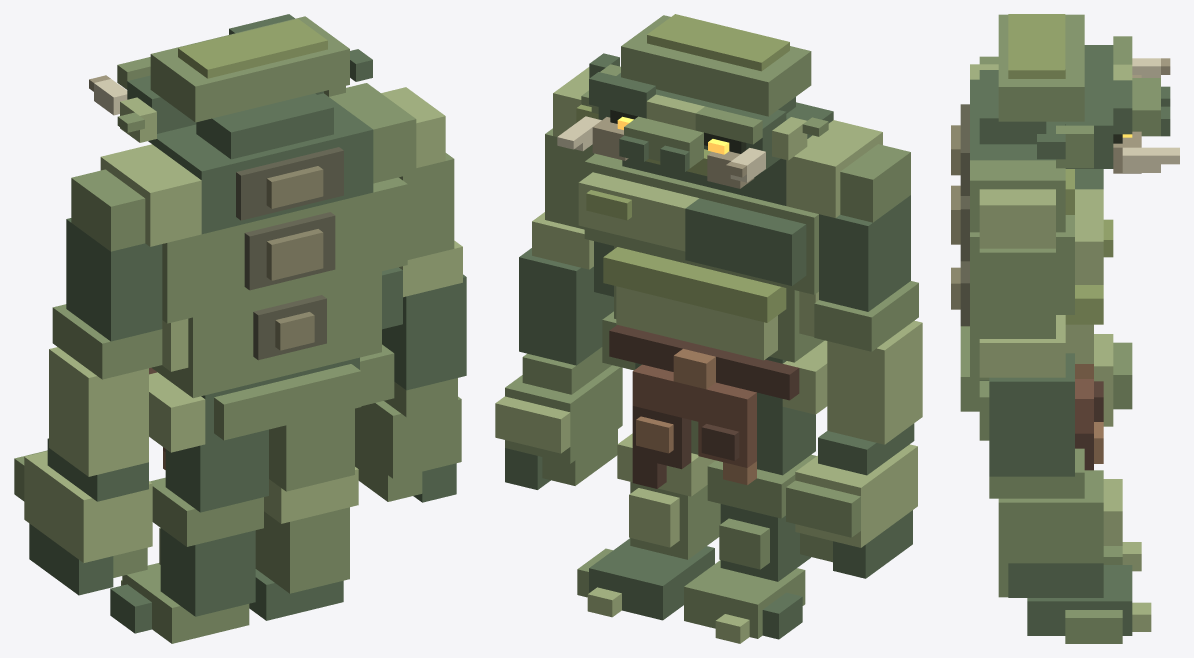
Rendered from voxel_troll_64x.glb.
The picture shows the model from 3 angles, left to right: view 1: azimuth 30°, elevation 25°; view 2: azimuth 150°, elevation 25°; view 3: azimuth 270°, elevation 25°; orthographic projection. The views are drawn at different scales.
Visible parts, largest first — view 1: chest_core, abdomen_core, forearm_right, head_cranium, upper_back_core, upper_arm_right, palm_right, forearm_left, pelvis_back, lower_leg_right, palm_left, lower_leg_left (+38 smaller); view 2: forearm_right, head_cranium, upper_arm_right, forearm_left, pectoral_right, belly_front_upper, belly_front_lower, chest_core, palm_right, foot_left_core, loincloth_belt, palm_left (+53 smaller); view 3: forearm_left, palm_left, upper_arm_left, head_cranium, shoulder_left_outer, scalp_ridge, shoulder_left_inner, elbow_left, foot_left_core, jaw_core, fingers_left_outer, pectoral_left (+39 smaller).
Part boxes in pixels (x1,y1,x2,y2): chest_core: (162, 177, 407, 323); abdomen_core: (152, 271, 381, 398); forearm_right: (49, 347, 148, 476); head_cranium: (150, 16, 349, 122); upper_back_core: (152, 93, 373, 234); upper_arm_right: (66, 218, 162, 341); palm_right: (24, 451, 152, 562); forearm_left: (382, 274, 466, 390); pelvis_back: (214, 364, 361, 440); lower_leg_right: (160, 528, 255, 616); palm_left: (355, 396, 461, 478); lower_leg_left: (255, 507, 349, 593); forearm_right: (827, 320, 922, 444); head_cranium: (621, 15, 811, 116); upper_arm_right: (819, 195, 910, 311); forearm_left: (519, 248, 613, 365); pectoral_right: (685, 198, 806, 285); belly_front_upper: (603, 247, 786, 322); belly_front_lower: (616, 286, 777, 360); chest_core: (584, 153, 818, 294); palm_right: (795, 444, 917, 547); foot_left_core: (589, 538, 714, 620); loincloth_belt: (609, 325, 799, 400); palm_left: (505, 365, 622, 463); forearm_left: (989, 353, 1074, 476); palm_left: (998, 470, 1103, 563); upper_arm_left: (979, 248, 1055, 338); head_cranium: (998, 14, 1084, 121); shoulder_left_outer: (979, 189, 1055, 248); scalp_ridge: (1008, 14, 1065, 78); shoulder_left_inner: (970, 160, 1065, 232); elbow_left: (979, 315, 1065, 377); foot_left_core: (1027, 565, 1132, 635); jaw_core: (1065, 45, 1113, 168); fingers_left_outer: (1008, 563, 1103, 597); pectoral_left: (1075, 189, 1103, 284).
Size of the model in its own units: 1.38 by 2 by 0.75.
